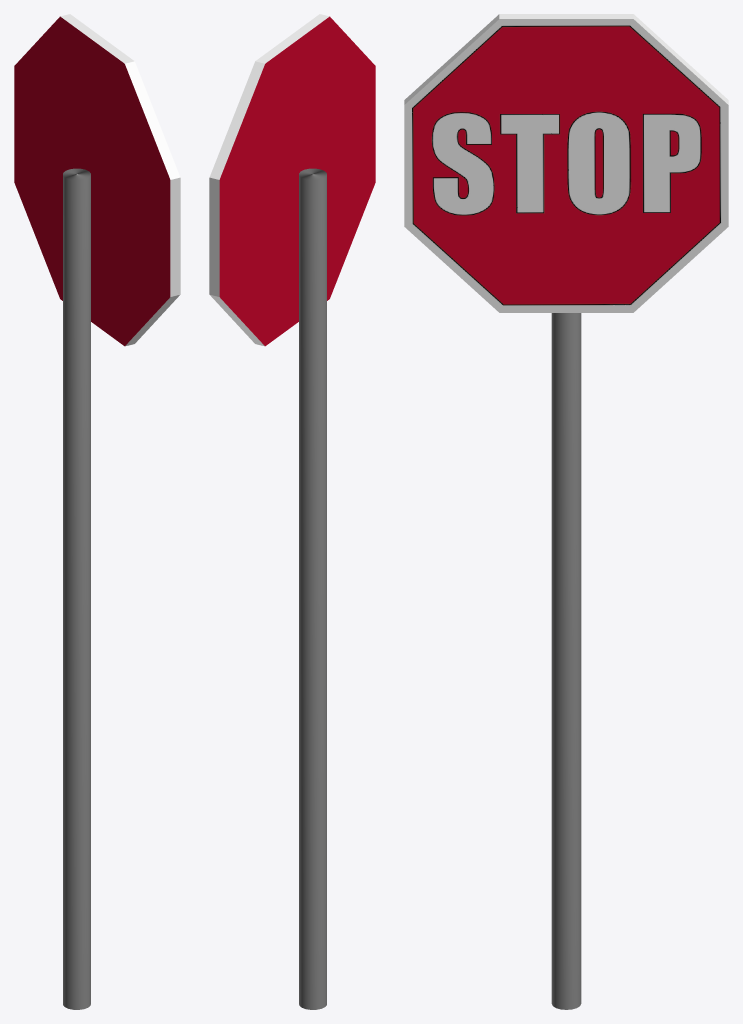
File: stopsign.fbx
3 views of the same model, side by side, from view 1: azimuth 30°, elevation 25°; view 2: azimuth 150°, elevation 25°; view 3: azimuth 270°, elevation 25° (orthographic). The views are drawn at different scales.
Visible parts, largest first — view 1: Cylinder, Cylinder.001; view 2: Cylinder, Cylinder.001; view 3: Cylinder, Cylinder.001.
Boxes of the visible parts, box(x1,y1,x2,y2) form: Cylinder: box(14, 14, 180, 346); Cylinder.001: box(63, 168, 90, 1009); Cylinder: box(209, 14, 375, 346); Cylinder.001: box(299, 168, 326, 1009); Cylinder: box(404, 14, 728, 312); Cylinder.001: box(551, 313, 581, 1009).
Bounding box in the file's own units: 0.2589 × 6.27 × 1.85.
2 materials, 1 textured.
